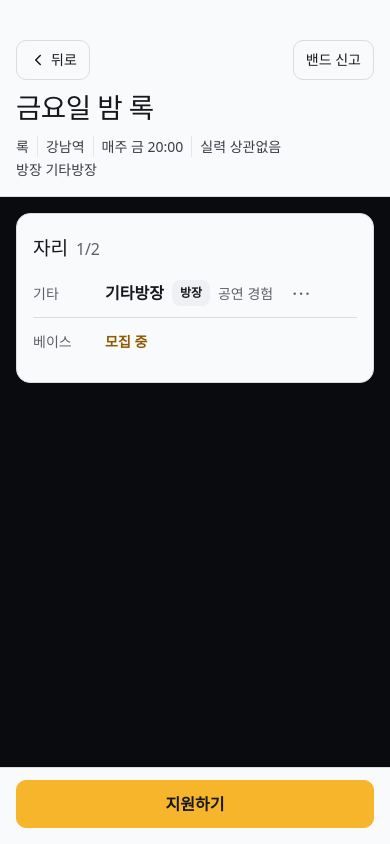
Scenario: 밴드 상세 › 빈 베이스 자리에 지원하면 지원 대기 상태로 바뀐다
Click the button "지원하기". click: (195, 804)
box: [16,780,374,828]
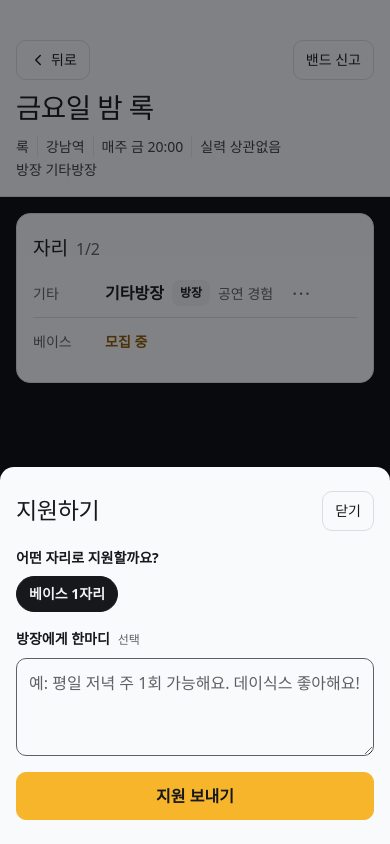
Type "주 1회 가능" into the text box labelled "방장에게 한마디 선택". click: (195, 707)
box: [16,658,374,756]
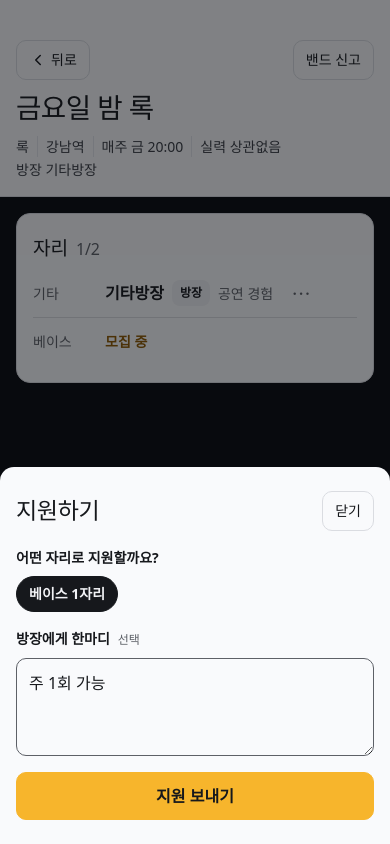
Click the button "지원 보내기". click: (195, 796)
box: [16,772,374,820]
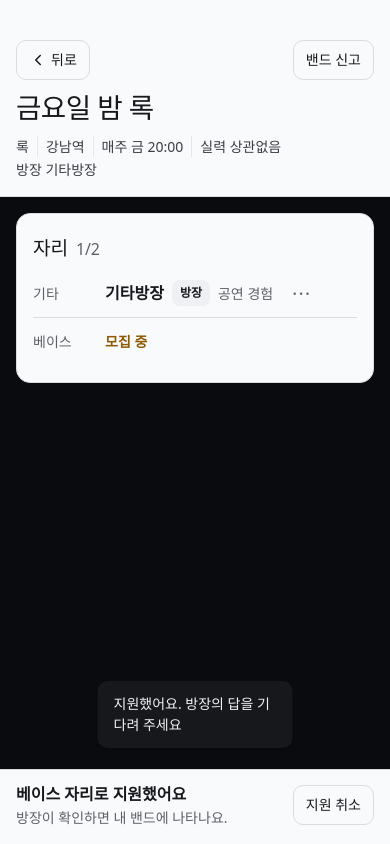
Expected: the text "베이스 자리로 지원했어요" is shown, [16,783,186,805]
